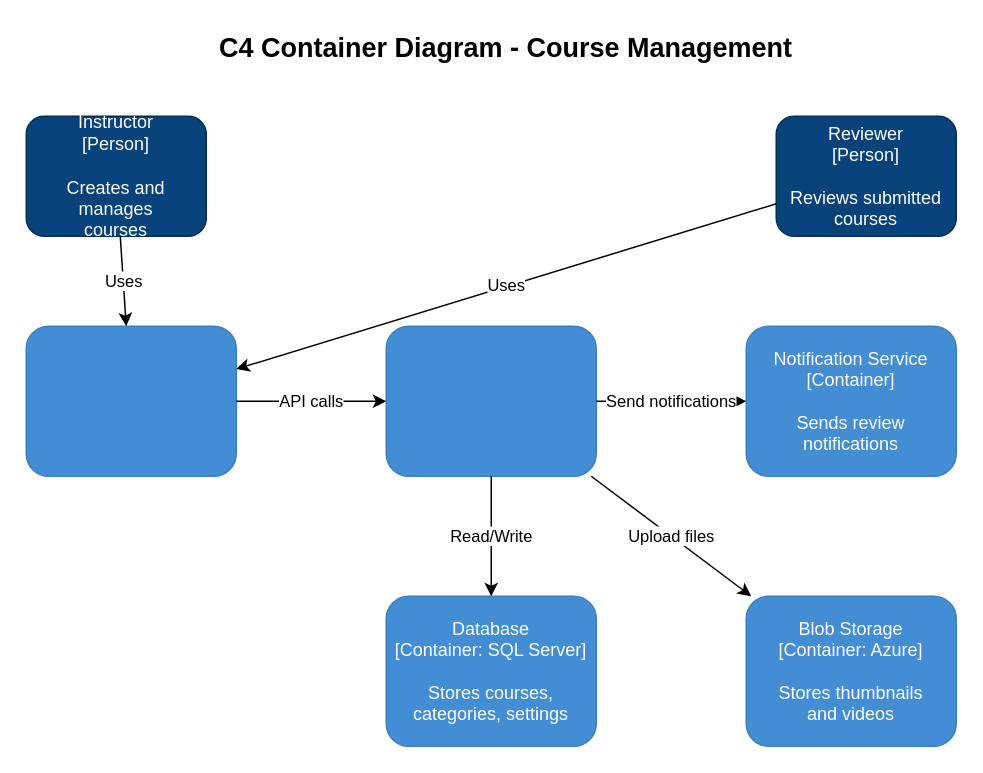
Some shapes in this 983 by 773 pixel diagram are drawn without their labels. Each missing label, with the centre of its shape:
Angular App [Container] Course creation and management UI: the point at 130,400
Course API [Container: ASP.NET] Course management endpoints: the point at 490,400
